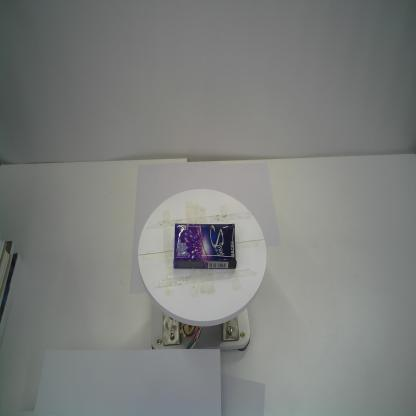Gum: (173, 223, 237, 270)
